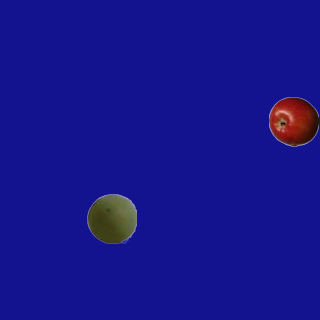Apple Braeburn: (268, 96, 318, 146)
Grape White 4: (86, 193, 136, 243)
